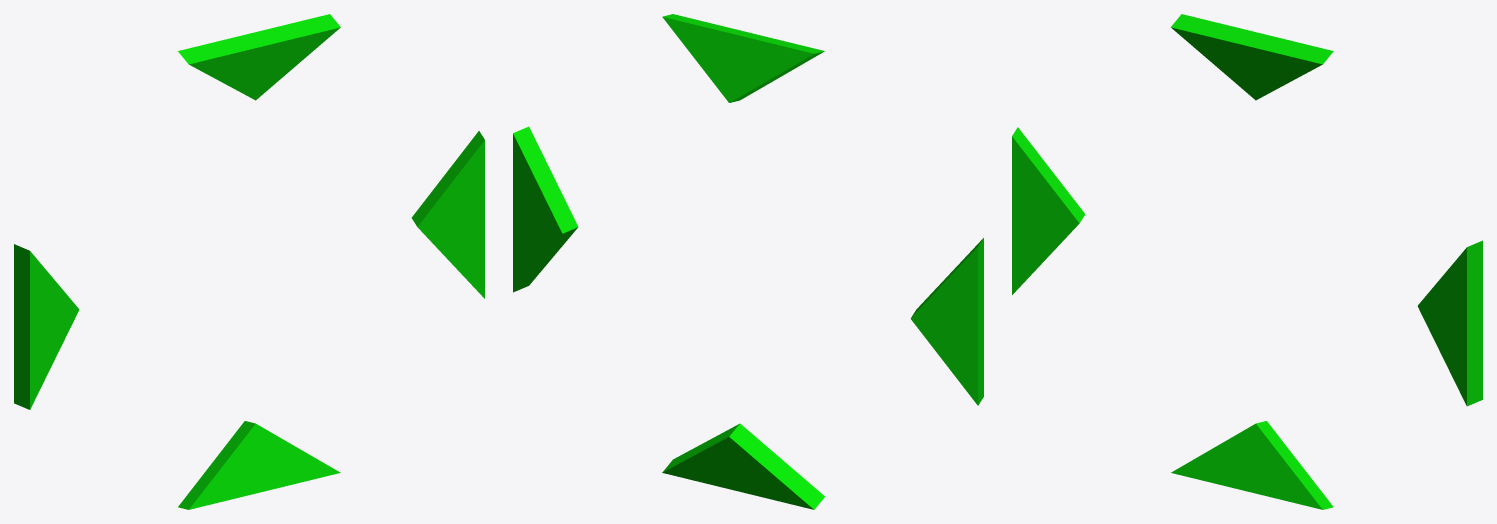
Rendered from ret1.fbx.
3 views of the same model, side by side, from view 1: azimuth 30°, elevation 25°; view 2: azimuth 150°, elevation 25°; view 3: azimuth 330°, elevation 25° (orthographic).
Visible parts, largest first — view 1: pPrism2, pPrism3, pPrism1, pPrism4; view 2: pPrism1, pPrism4, pPrism2, pPrism3; view 3: pPrism1, pPrism3, pPrism2, pPrism4.
Part boxes in pixels (<box>): pPrism2: <box>411,131,484,298</box>; pPrism3: <box>178,421,340,509</box>; pPrism1: <box>14,244,79,409</box>; pPrism4: <box>178,14,340,100</box>; pPrism1: <box>910,238,983,405</box>; pPrism4: <box>662,14,824,102</box>; pPrism2: <box>513,126,578,292</box>; pPrism3: <box>662,423,825,509</box>; pPrism1: <box>1012,127,1085,294</box>; pPrism3: <box>1171,421,1333,509</box>; pPrism2: <box>1417,240,1482,406</box>; pPrism4: <box>1170,14,1333,100</box>.
Bounding box in the file's own units: 2.24 × 0.1674 × 2.1.
